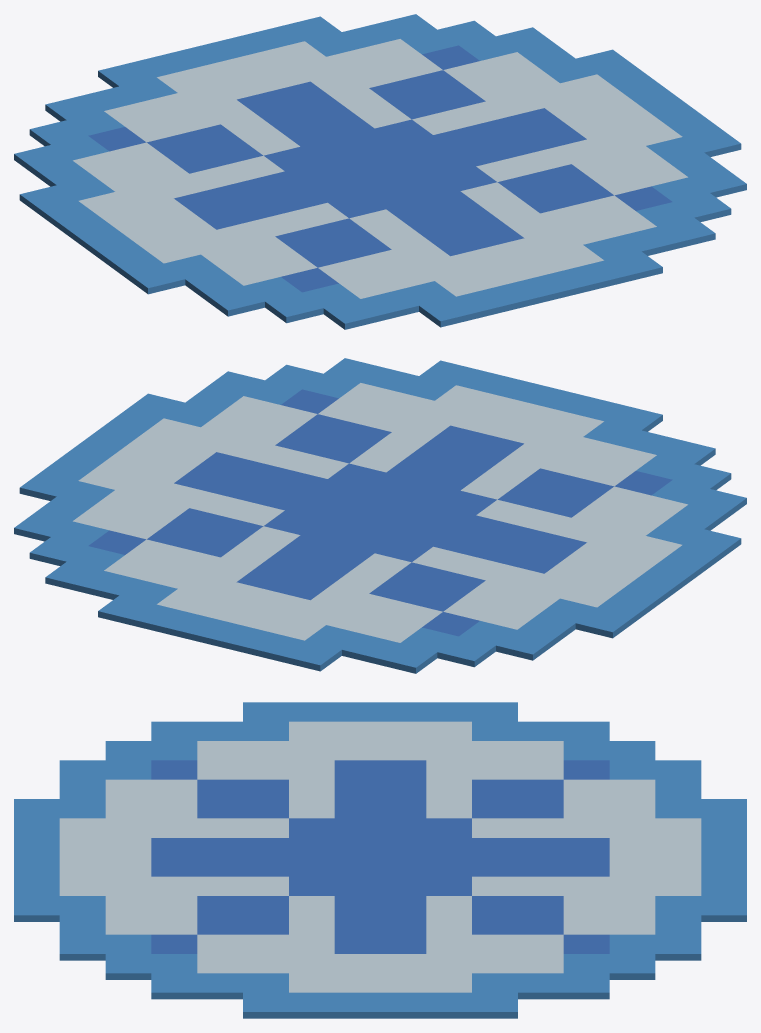
File: ncb-rug-snow.glb
3 views of the same model, one above another, from view 1: azimuth 30°, elevation 25°; view 2: azimuth 150°, elevation 25°; view 3: azimuth 270°, elevation 25° (orthographic). The views are drawn at different scales.
Parts seen in each view (by area): view 1: box-prop; view 2: box-prop; view 3: box-prop.
Boxes of the visible parts, x1=… form: box-prop: x1=14, y1=14, x2=746, y2=329; box-prop: x1=14, y1=358, x2=746, y2=673; box-prop: x1=14, y1=702, x2=746, y2=1018.
Bounding box in the file's own units: 3.04 × 0.03 × 3.04.
